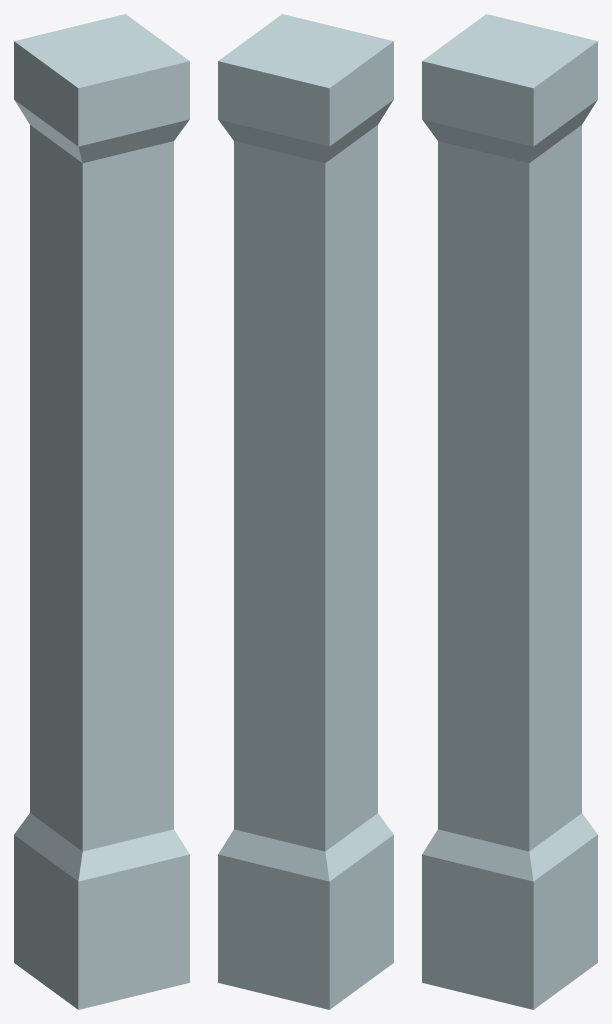
The model's file is borderPillar.glb.
The picture shows the model from 3 angles, left to right: view 1: azimuth 30°, elevation 25°; view 2: azimuth 150°, elevation 25°; view 3: azimuth 330°, elevation 25°; orthographic projection.
Parts seen in each view (by area): view 1: borderPillar; view 2: borderPillar; view 3: borderPillar.
Part boxes in pixels (x1,y1,x2,y2): borderPillar: (14,14,189,1009); borderPillar: (218,14,393,1009); borderPillar: (422,14,597,1009).
Bounding box in the file's own units: 0.1 × 0.79 × 0.1.
